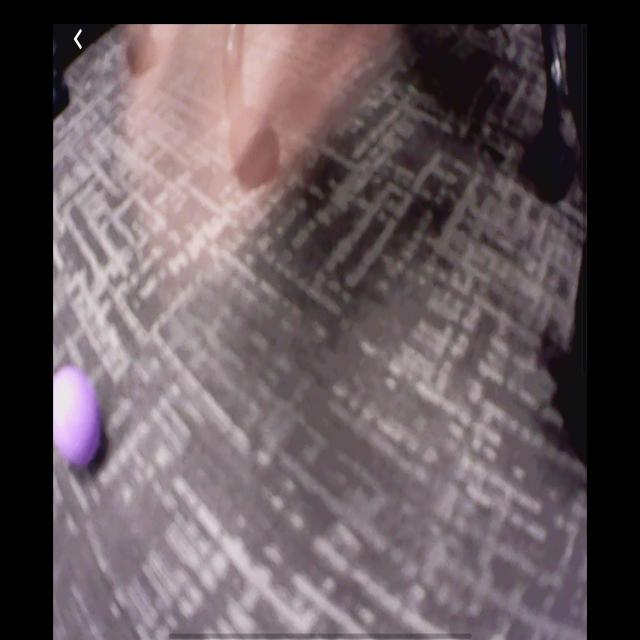ball: (53, 364, 103, 470)
